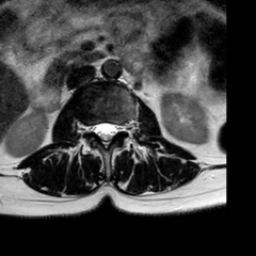CCS_normal: (101, 113, 110, 154)
LFS_normal: (118, 114, 127, 142)
LLS_normal: (110, 114, 118, 143)
RFS_normal: (83, 115, 92, 142)
RLS_normal: (92, 115, 101, 143)
